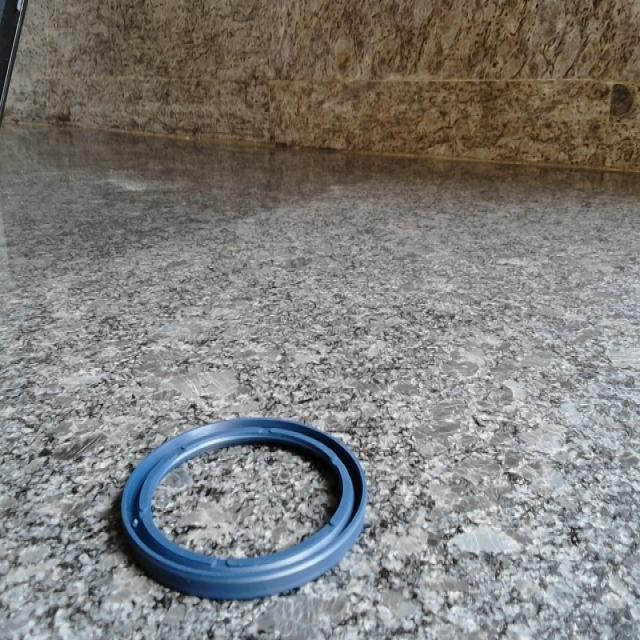cobalt-W-ring: (122, 418, 368, 600)
